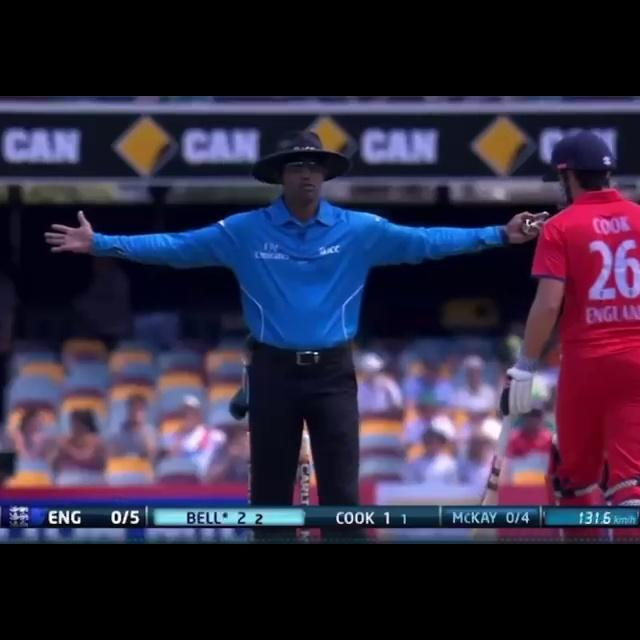umpire: (39, 133, 541, 490)
